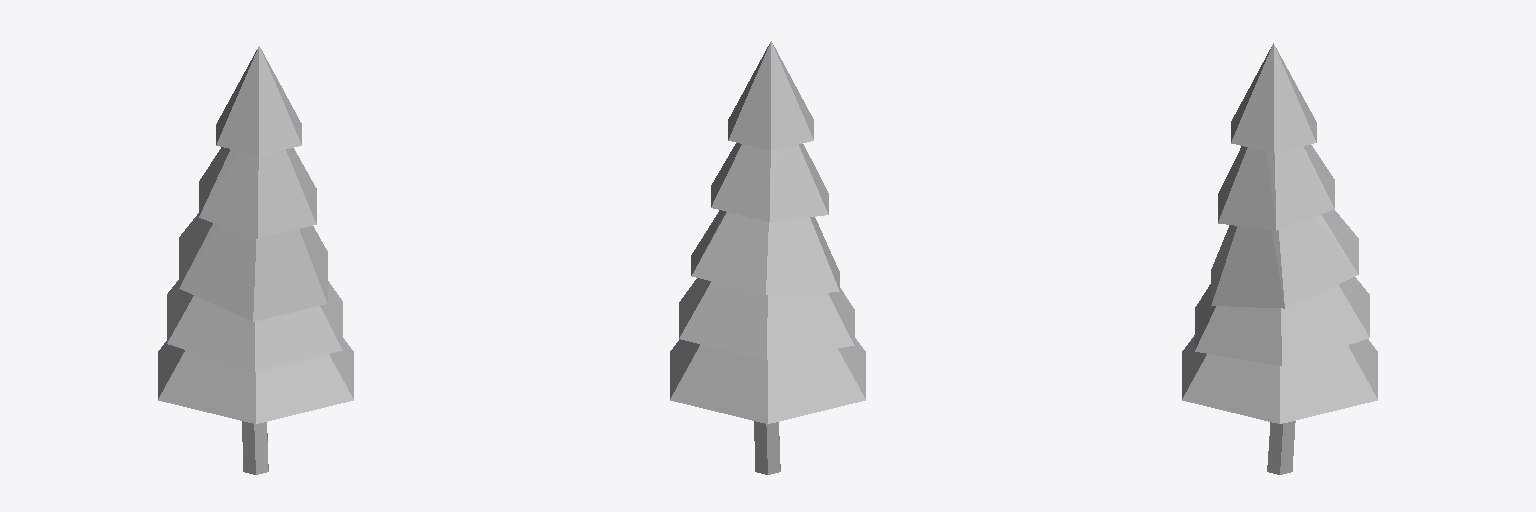
File: trees.obj
3 views of the same model, side by side, from view 1: azimuth 30°, elevation 25°; view 2: azimuth 150°, elevation 25°; view 3: azimuth 270°, elevation 25° (orthographic).
Parts seen in each view (by area): view 1: Tree_Type1_04_Circle.001; view 2: Tree_Type1_04_Circle.001; view 3: Tree_Type1_04_Circle.001.
Boxes of the visible parts, x1=… form: Tree_Type1_04_Circle.001: x1=158, y1=46, x2=353, y2=474; Tree_Type1_04_Circle.001: x1=670, y1=41, x2=865, y2=474; Tree_Type1_04_Circle.001: x1=1182, y1=43, x2=1377, y2=474.
Bounding box in the file's own units: 0.987 × 2.04 × 0.8548.